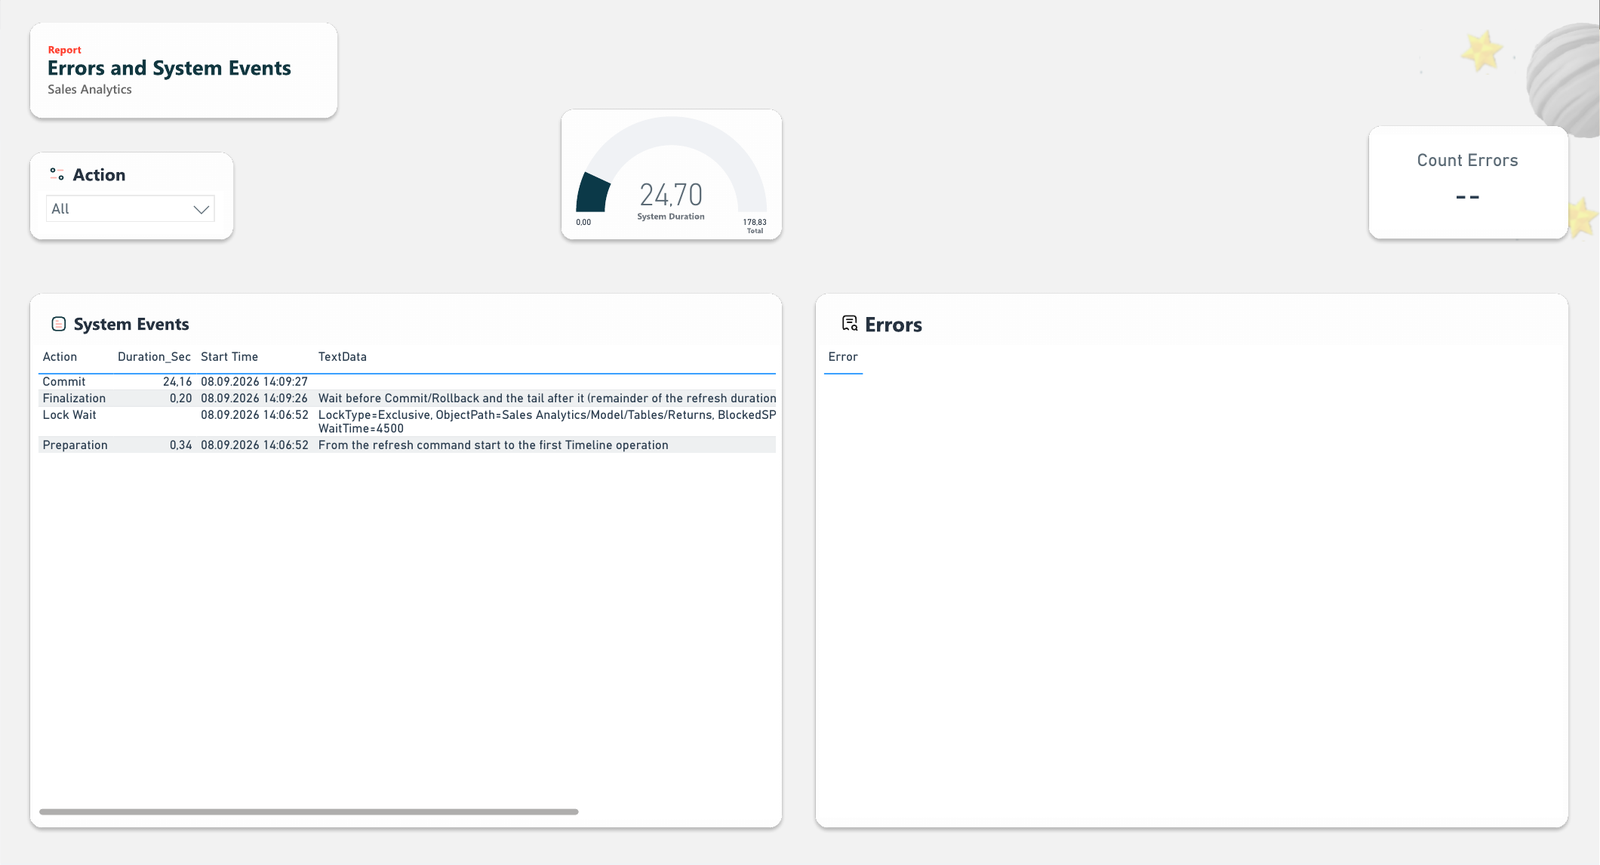

This screenshot's page, from the dashboard's own definition file:
{"tool":"powerbi","page":{"name":"Errors & System Events","canvas":[1850,1000],"ordinal":2},"visuals":[{"type":"pivotTable","fields":{"Rows":["Errors.Error","Errors.ID","Errors.TextData"]},"box":[948.3,398.3,860,546.7],"z":4000},{"type":"cardVisual","fields":{"Data":["Errors.Cnt_Errors"]},"box":[1587.3,155.5,221.8,110],"z":5000},{"type":"tableEx","fields":{"Values":["System Events.Action","System Events.Duration_Sec","System Events.StartTime","System Events.TextData"]},"box":[38.3,398.3,863.3,550],"z":6000},{"type":"slicer","fields":{"Values":["System Events.Action"]},"box":[42.5,220,215,50],"z":7000},{"type":"cardVisual","fields":{"Data":["Min(Summary Info.Database)"]},"box":[42.8,78.3,346.7,67.2],"z":8000},{"type":"gauge","fields":{"MaxValue":["Execution Metrics.Sum of Execution Duration Sec"],"Y":["System Events.Sum of System Duration Sec"]},"box":[651.1,134.2,250.5,131.1],"z":10000}]}

Visuals, with their boxes in screenshot pixels (x1, y1, x2, y2), scaled from the page's 1850x1000 canvas onto the 1600x865 screenshot:
pivotTable - Errors.Error x Errors.ID: rect(820, 345, 1564, 817)
cardVisual - Errors.Cnt_Errors: rect(1373, 135, 1565, 230)
tableEx - System Events.Action x System Events.Duration_Sec: rect(33, 345, 780, 820)
slicer - System Events.Action: rect(37, 190, 223, 234)
cardVisual - Min(Summary Info.Database): rect(37, 68, 337, 126)
gauge - Execution Metrics.Sum of Execution Duration Sec x System Events.Sum of System Duration Sec: rect(563, 116, 780, 229)
